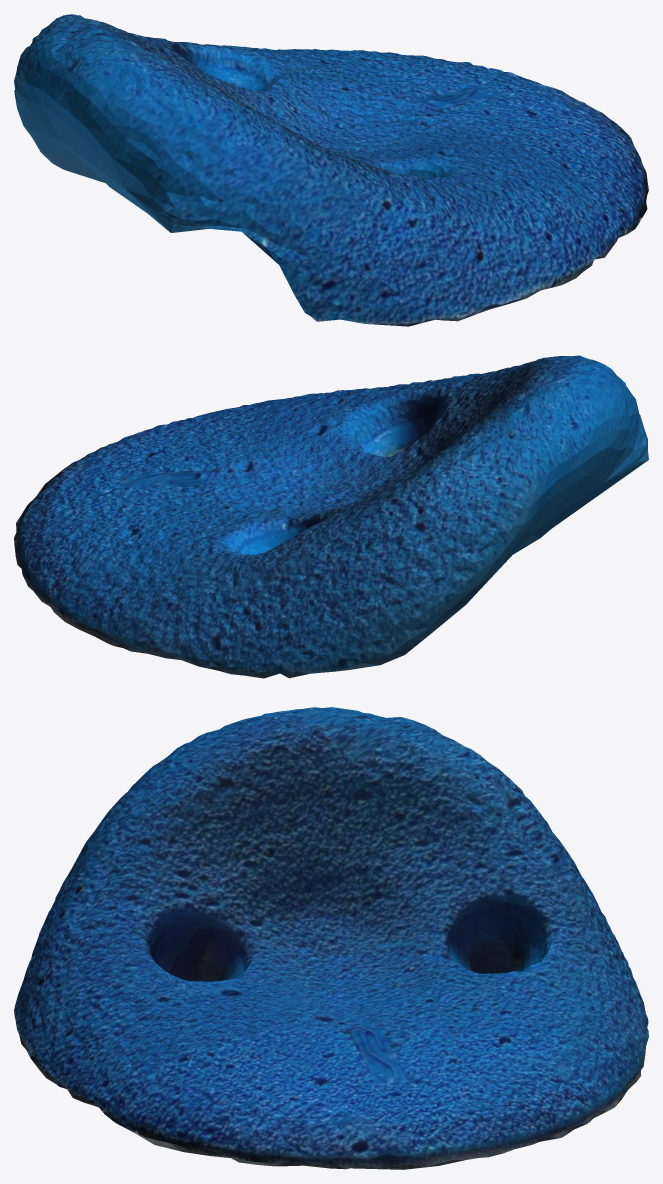
Rendered from SNAP_5_S_num3.glb.
3 views of the same model, one above another, from view 1: azimuth 30°, elevation 25°; view 2: azimuth 150°, elevation 25°; view 3: azimuth 270°, elevation 25° (orthographic). The views are drawn at different scales.
Bounding box in the file's own units: 0.3182 × 0.1275 × 0.316.
1 material, 1 textured.
